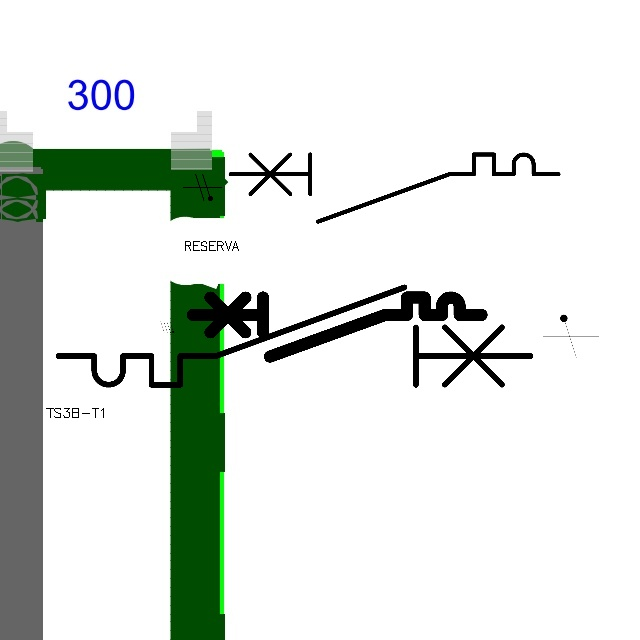interruptor_termomagnetico: (46, 275, 543, 397), (222, 146, 567, 230), (185, 290, 488, 364)
